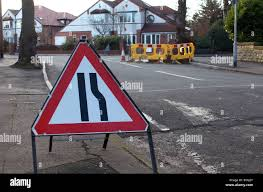narrow-road: (51, 57, 131, 130)
